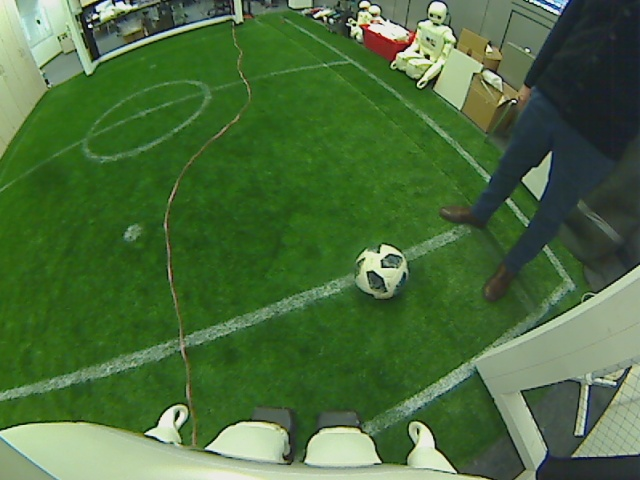ball: (352, 243, 409, 298)
